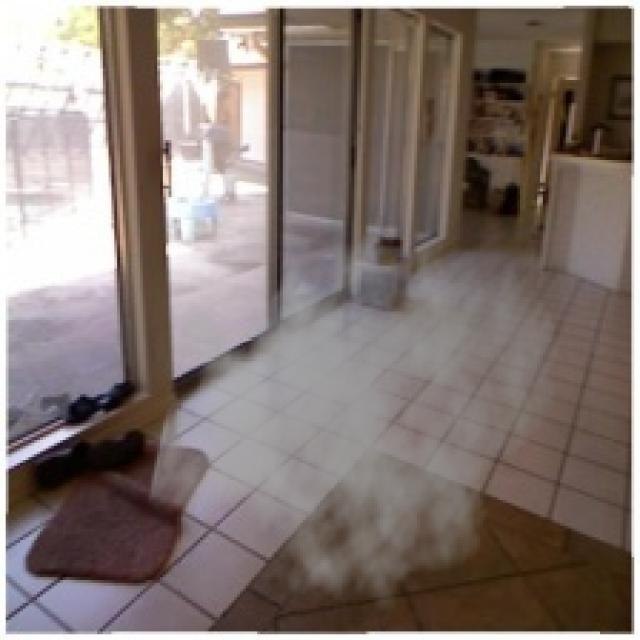Smoke: (146, 197, 563, 617)
